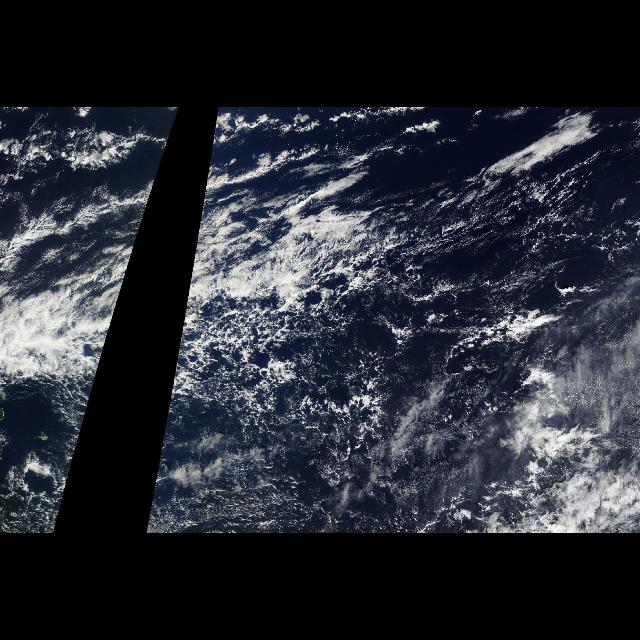Fish: (169, 160, 413, 400), (1, 160, 163, 400)
Gravel: (197, 259, 538, 529)
